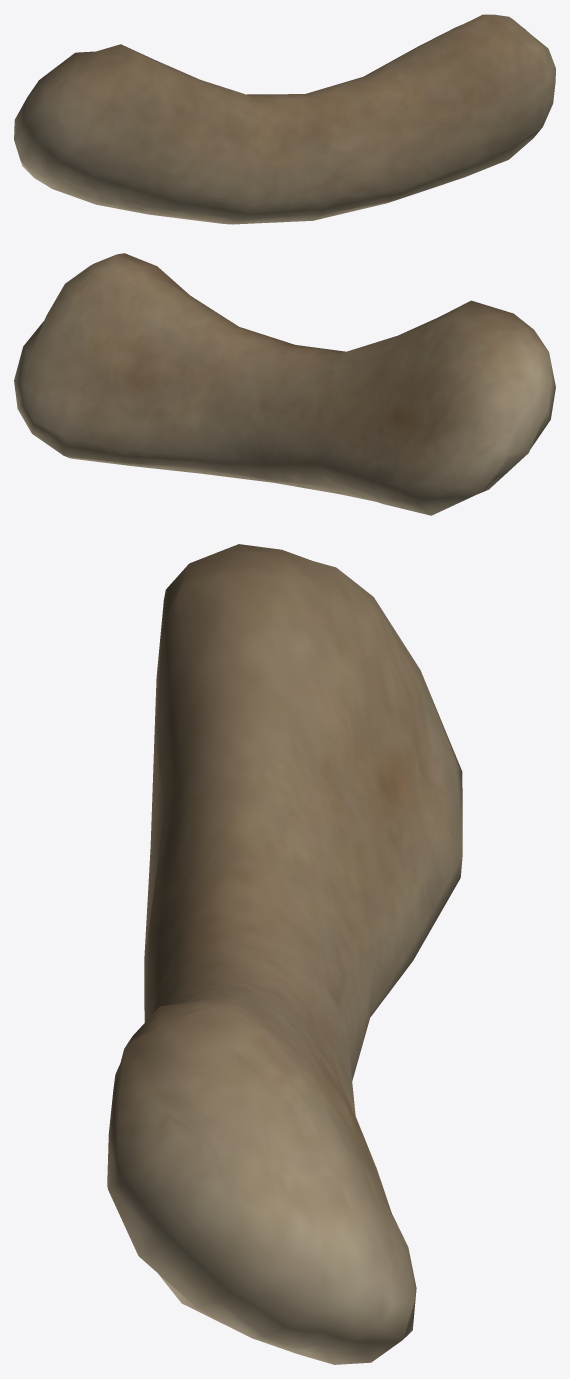
The model's file is Basihyoid.glb.
3 views of the same model, one above another, from view 1: azimuth 30°, elevation 25°; view 2: azimuth 150°, elevation 25°; view 3: azimuth 270°, elevation 25° (orthographic). The views are drawn at different scales.
Visible parts, largest first — view 1: Basihyoid1:Group56925; view 2: Basihyoid1:Group56925; view 3: Basihyoid1:Group56925.
Part boxes in pixels (box(x1,y1,x2,y2)): Basihyoid1:Group56925: box(14, 14, 555, 224); Basihyoid1:Group56925: box(14, 253, 555, 515); Basihyoid1:Group56925: box(107, 544, 462, 1364).
Bounding box in the file's own units: 18.73 × 7.73 × 5.65.
1 material, 1 textured.
